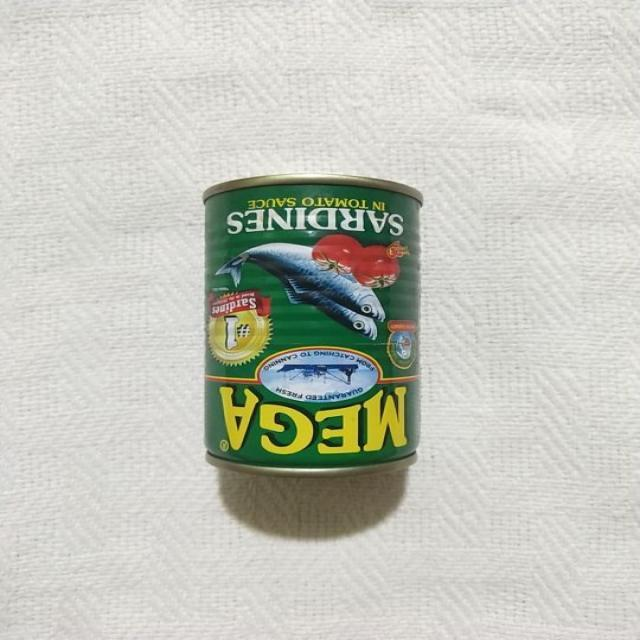metal-can: (202, 174, 424, 468)
